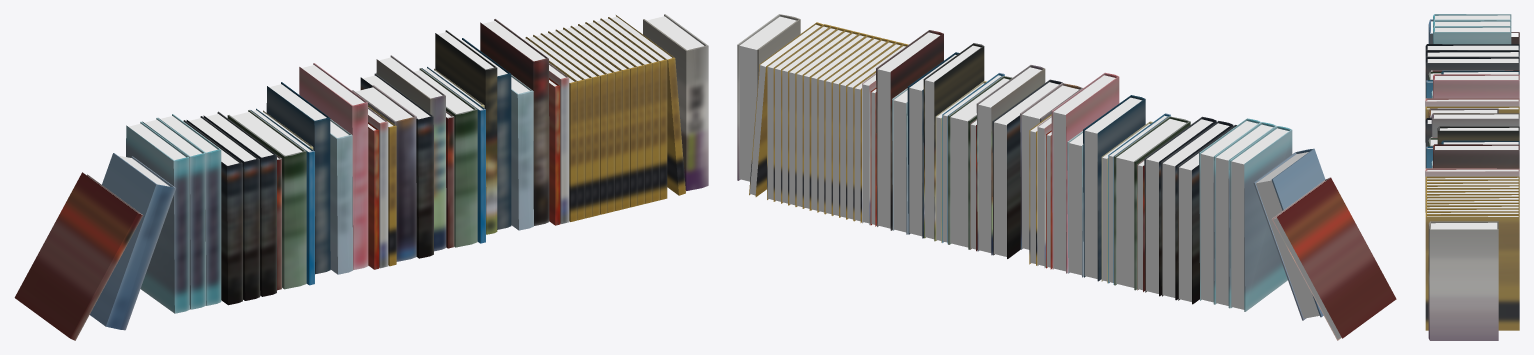
File: books 2.FBX
The picture shows the model from 3 angles, left to right: view 1: azimuth 30°, elevation 25°; view 2: azimuth 150°, elevation 25°; view 3: azimuth 270°, elevation 25°; orthographic projection. The views are drawn at different scales.
Visible parts, largest first — view 1: books 2; view 2: books 2; view 3: books 2.
Boxes of the visible parts, x1,y1,x2,y2 form: books 2: (14,14,708,340); books 2: (737,14,1396,340); books 2: (1425,14,1519,340).
Bounding box in the file's own units: 47.75 × 7.72 × 11.94.
1 material, 1 textured.
